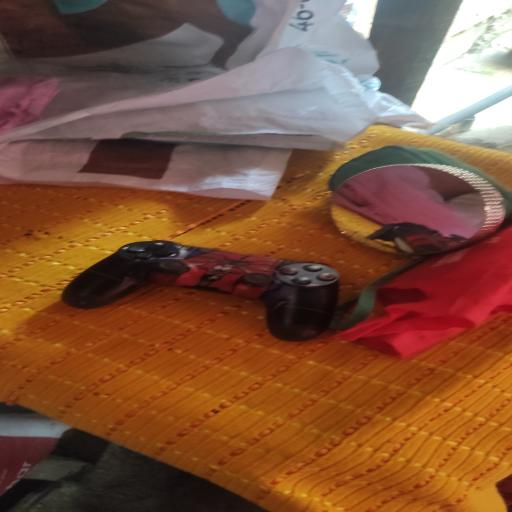ControlPlay4: (63, 240, 339, 341)
